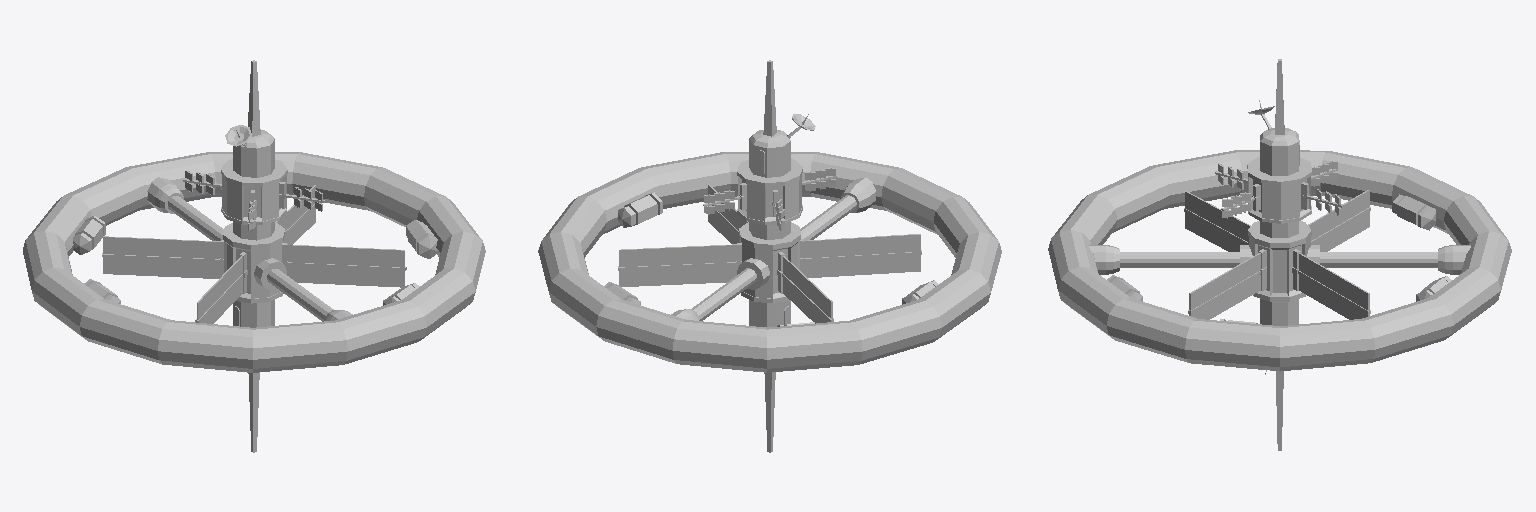
Rendered from spacest.obj.
3 renders of one model, left to right at view 1: azimuth 30°, elevation 25°; view 2: azimuth 150°, elevation 25°; view 3: azimuth 270°, elevation 25°, orthographic.
Visible parts, largest first — view 1: RT_3D_Station2_Model; view 2: RT_3D_Station2_Model; view 3: RT_3D_Station2_Model.
Boxes of the visible parts, x1,y1,x2,y2 form: RT_3D_Station2_Model: [23, 60, 485, 452]; RT_3D_Station2_Model: [538, 60, 1001, 452]; RT_3D_Station2_Model: [1048, 59, 1511, 450].
Size of the model in its own units: 110 by 102 by 110.